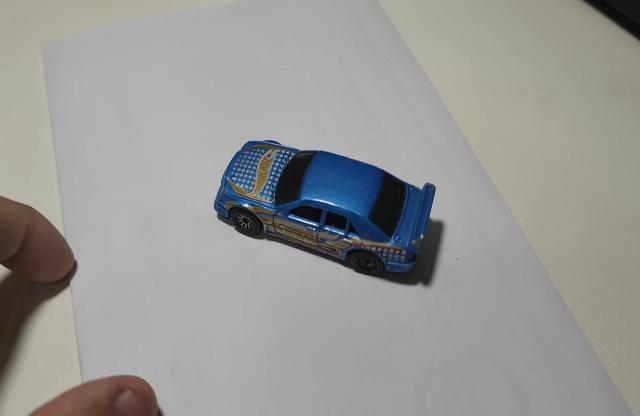04_MERZEDES: (215, 141, 439, 286)
